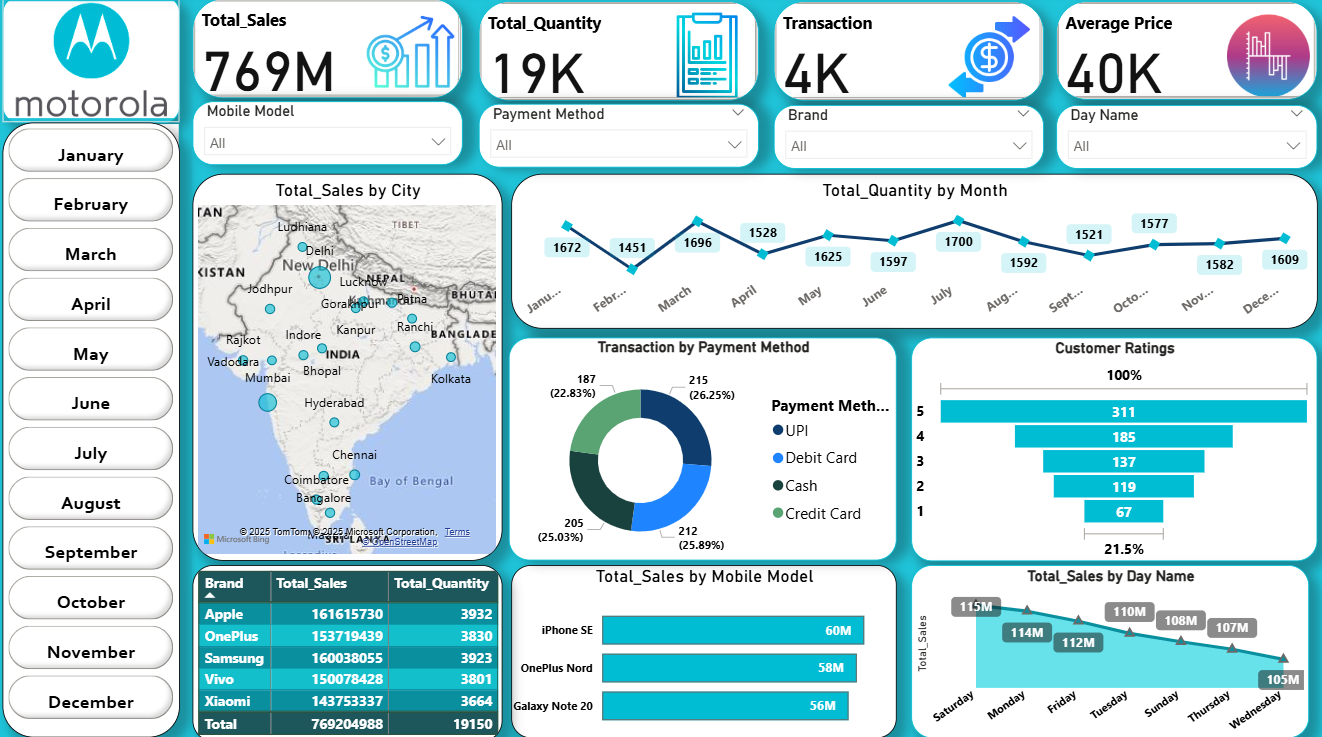

This screenshot's page, from the dashboard's own definition file:
{"tool":"powerbi","page":{"name":"Page 1","canvas":[1280,720],"ordinal":0},"visuals":[{"type":"image","box":[2.7,1,171.5,122.1],"z":0},{"type":"advancedSlicerVisual","fields":{"Values":["Sheet1.Date.Variation.Date Hierarchy.Month"]},"box":[2.4,123.1,171.3,593.6],"z":1000},{"type":"cardVisual","fields":{"Data":["Sheet1.Total_Sales"]},"box":[185.2,4,260.7,96.1],"z":2000},{"type":"map","fields":{"Category":["Sheet1.City"],"Size":["Sheet1.Total_Sales"]},"box":[185.2,172.9,299.1,373.2],"z":3000},{"type":"lineChart","fields":{"Category":["Sheet1.Date.Variation.Date Hierarchy.Month","Sheet1.Date.Variation.Date Hierarchy.Day"],"Y":["Sheet1.Total_Quantity"]},"box":[493.4,172.5,778.2,149.6],"z":4000},{"type":"cardVisual","fields":{"Data":["Sheet1.Total_Quantity"]},"box":[462.4,5.5,270.3,96.1],"z":5000},{"type":"cardVisual","fields":{"Data":["Sheet1.Transaction"]},"box":[746.5,5.5,260.7,96.1],"z":6000},{"type":"cardVisual","fields":{"Data":["Sheet1.Average Price"]},"box":[1019.4,6,252.1,95.3],"z":7000},{"type":"clusteredBarChart","fields":{"Category":["Sheet1.Mobile Model"],"Y":["Sheet1.Total_Sales"]},"box":[494,550.3,371.9,167.4],"z":8000},{"type":"donutChart","fields":{"Y":["Sheet1.Transaction"],"Category":["Sheet1.Payment Method"]},"box":[491.3,330.7,374.6,215.4],"z":9000},{"type":"funnel","title":" Customer Ratings   ","fields":{"Category":["Sheet1.Customer Ratings"],"Y":["CountNonNull(Sheet1.Customer Ratings)"]},"box":[879.5,330.6,392.1,216],"z":10000},{"type":"areaChart","fields":{"Category":["Sheet1.Day Name"],"Y":["Sheet1.Total_Sales"]},"box":[879.6,550.3,384.2,167.4],"z":11000},{"type":"tableEx","fields":{"Values":["Sheet1.Brand","Sheet1.Total_Sales","Sheet1.Total_Quantity"]},"box":[185.2,550.3,299.1,170.2],"z":12000},{"type":"slicer","fields":{"Values":["Sheet1.Mobile Model"]},"box":[185.2,102.9,260.7,61.7],"z":13000},{"type":"slicer","fields":{"Values":["Sheet1.Payment Method"]},"box":[462.4,105,270.3,61.7],"z":14000},{"type":"slicer","fields":{"Values":["Sheet1.Brand"]},"box":[746.5,105.7,260.7,61.7],"z":15000},{"type":"slicer","fields":{"Values":["Sheet1.Day Name"]},"box":[1019.4,106.2,252.1,61.5],"z":16000}]}

Visuals, with their boxes in screenshot pixels (x1, y1, x2, y2), scaled from the page's 1280x720 canvas onto the 1322x737 screenshot:
image: x1=3, y1=1, x2=180, y2=126
advancedSlicerVisual - Sheet1.Date.Variation.Date Hierarchy.Month: x1=2, y1=126, x2=179, y2=734
cardVisual - Sheet1.Total_Sales: x1=191, y1=4, x2=461, y2=102
map - Sheet1.City x Sheet1.Total_Sales: x1=191, y1=177, x2=500, y2=559
lineChart - Sheet1.Date.Variation.Date Hierarchy.Month x Sheet1.Date.Variation.Date Hierarchy.Day: x1=510, y1=177, x2=1313, y2=330
cardVisual - Sheet1.Total_Quantity: x1=478, y1=6, x2=757, y2=104
cardVisual - Sheet1.Transaction: x1=771, y1=6, x2=1040, y2=104
cardVisual - Sheet1.Average Price: x1=1053, y1=6, x2=1313, y2=104
clusteredBarChart - Sheet1.Mobile Model x Sheet1.Total_Sales: x1=510, y1=563, x2=894, y2=735
donutChart - Sheet1.Transaction x Sheet1.Payment Method: x1=507, y1=339, x2=894, y2=559
" Customer Ratings   " funnel: x1=908, y1=338, x2=1313, y2=560
areaChart - Sheet1.Day Name x Sheet1.Total_Sales: x1=908, y1=563, x2=1305, y2=735
tableEx - Sheet1.Brand x Sheet1.Total_Sales: x1=191, y1=563, x2=500, y2=736
slicer - Sheet1.Mobile Model: x1=191, y1=105, x2=461, y2=168
slicer - Sheet1.Payment Method: x1=478, y1=107, x2=757, y2=171
slicer - Sheet1.Brand: x1=771, y1=108, x2=1040, y2=171
slicer - Sheet1.Day Name: x1=1053, y1=109, x2=1313, y2=172
